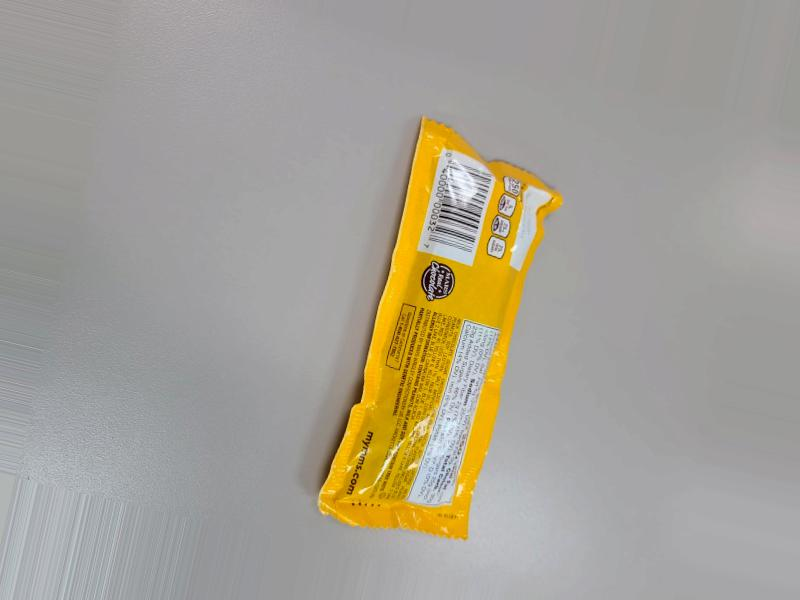m&m: (325, 102, 547, 528)
